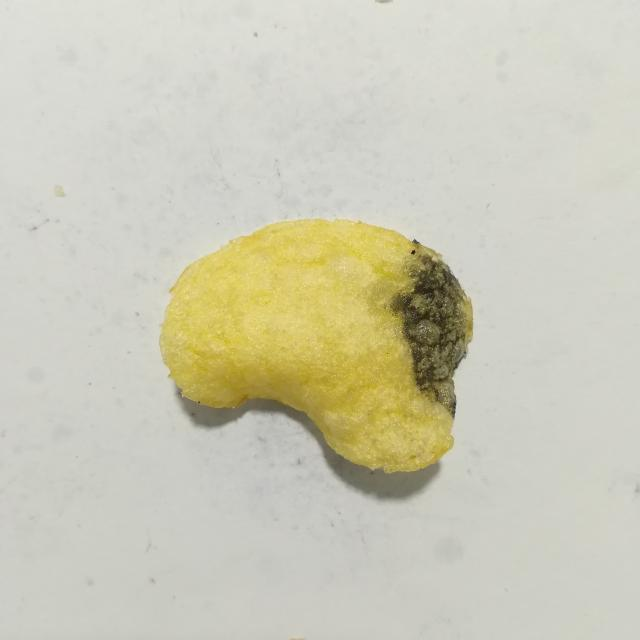chip: (159, 219, 473, 472)
damaged: (411, 250, 415, 255)
semi-damaged: (391, 255, 469, 418), (411, 239, 420, 245)
